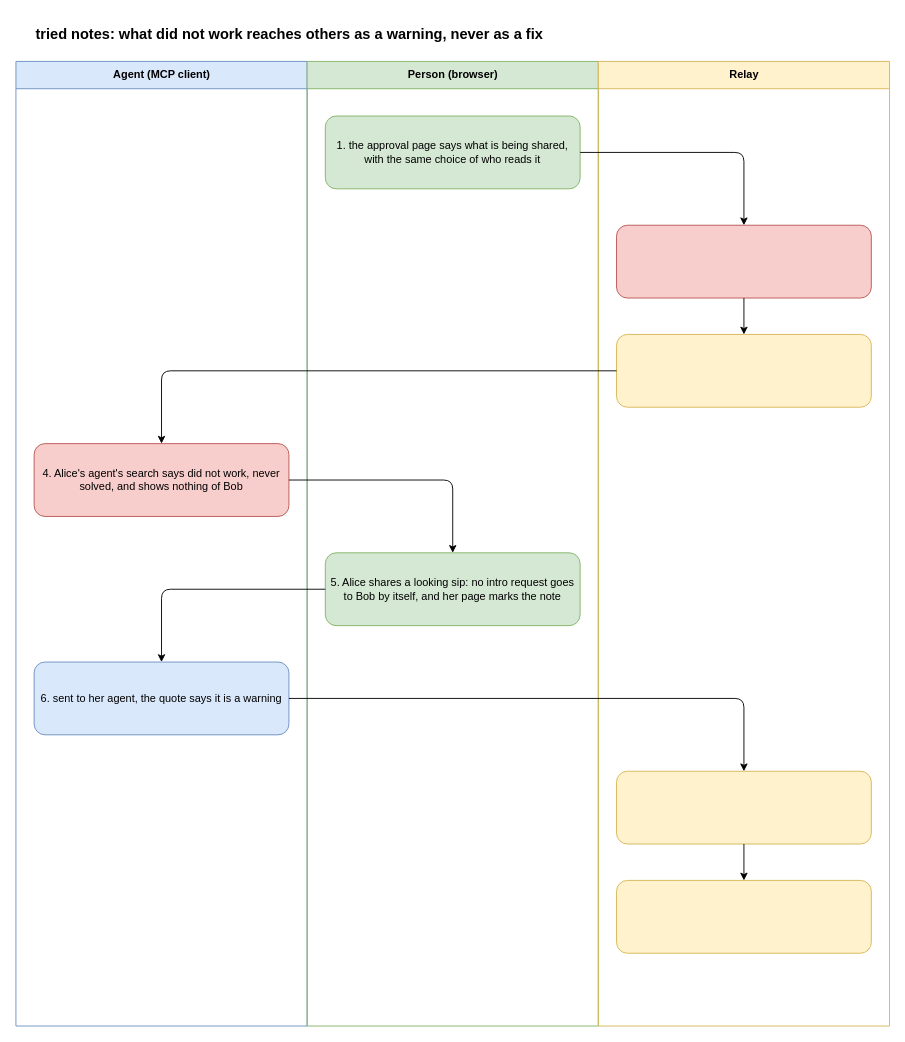
Some shapes in this 905 by 1042 pixel diagram are drawn without their labels. The shapes that lost their labels are listed below. From the top down, each one's centre as x and y in pixels, then its label:
At (x=743, y=261): "2. a tried sip carries no link card".
At (x=743, y=370): "3. Bob shares it; his card says tried, not solved".
At (x=743, y=807): "7. a new tried note reaches Alice with an inbox line that says so".
At (x=743, y=916): "8. a real fix still ranks first and still gets the intro or the note as before".
